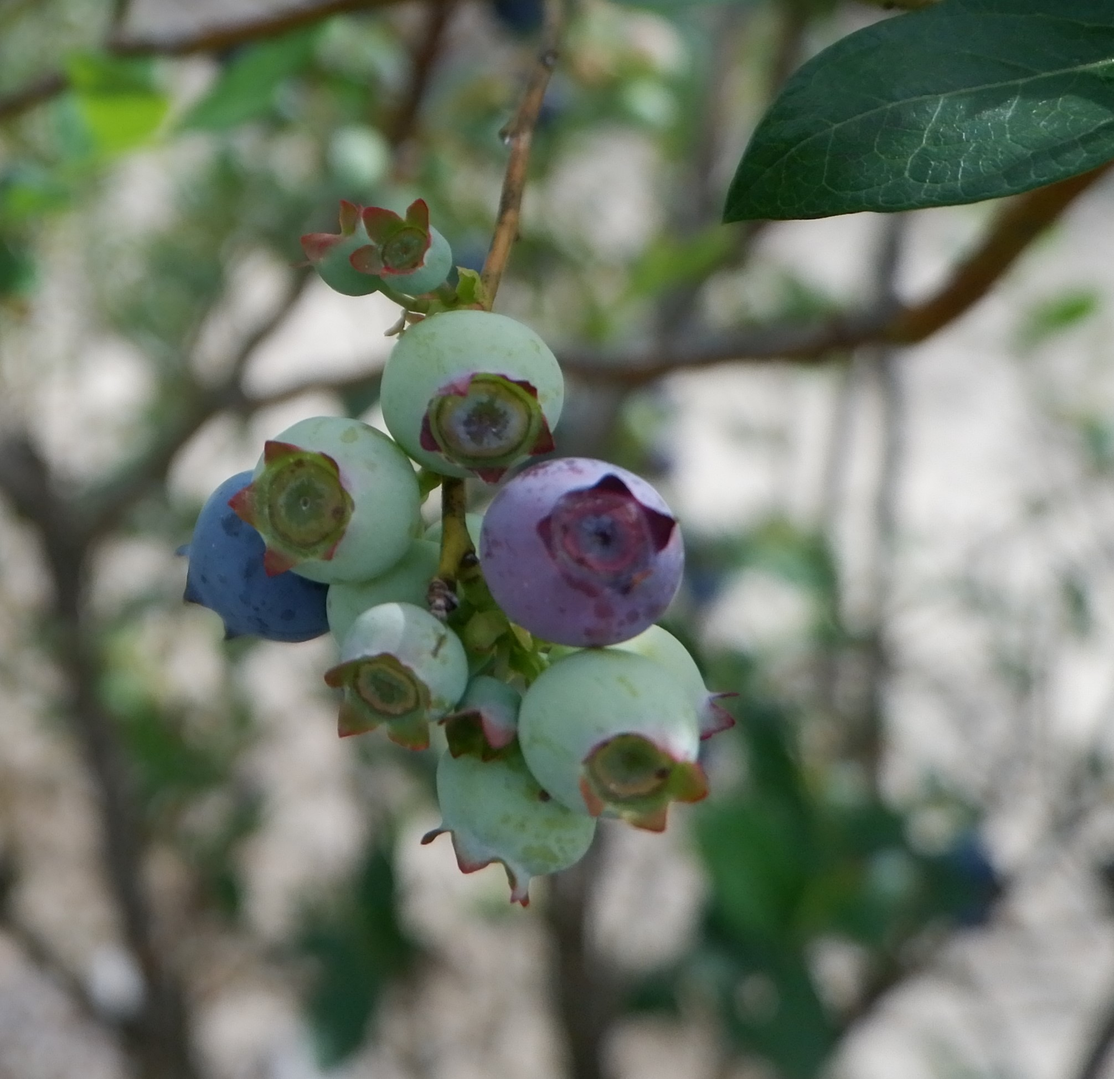Immature: (481, 460, 687, 648), (517, 647, 714, 834), (226, 416, 421, 585), (379, 311, 563, 483), (422, 735, 597, 910), (546, 625, 740, 739), (323, 602, 469, 752), (324, 540, 442, 647), (349, 199, 451, 295), (287, 201, 383, 298), (436, 675, 522, 762)
Mature: (174, 469, 330, 641)
